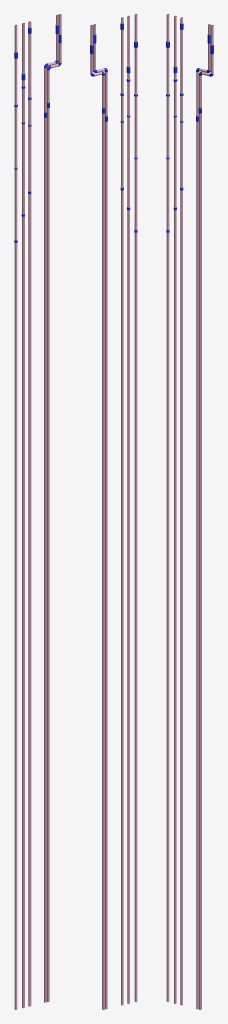
The model's file is Pipes.fbx.
3 views of the same model, side by side, from view 1: azimuth 30°, elevation 25°; view 2: azimuth 210°, elevation 25°; view 3: azimuth 330°, elevation 25° (orthographic).
Parts seen in each view (by area): view 1: Vert, Vert.002, Vert.003, Vert.004, Vert.001; view 2: Vert, Vert.003, Vert.004, Vert.001, Vert.002; view 3: Vert, Vert.003, Vert.004, Vert.001, Vert.002.
Boxes of the visible parts, bbox=[...] form: Vert: bbox=[14, 24, 17, 1009]; Vert.002: bbox=[28, 21, 31, 1006]; Vert.003: bbox=[47, 14, 61, 1001]; Vert.004: bbox=[44, 14, 58, 1002]; Vert.001: bbox=[21, 23, 25, 1008]; Vert: bbox=[134, 14, 137, 1001]; Vert.003: bbox=[90, 24, 105, 1009]; Vert.004: bbox=[93, 24, 107, 1009]; Vert.001: bbox=[126, 15, 130, 1003]; Vert.002: bbox=[120, 17, 123, 1005]; Vert: bbox=[166, 14, 169, 1001]; Vert.003: bbox=[198, 24, 213, 1009]; Vert.004: bbox=[196, 24, 210, 1009]; Vert.001: bbox=[173, 15, 177, 1003]; Vert.002: bbox=[180, 17, 183, 1005].
Size of the model in its own units: 22.76 by 454 by 1.52.
